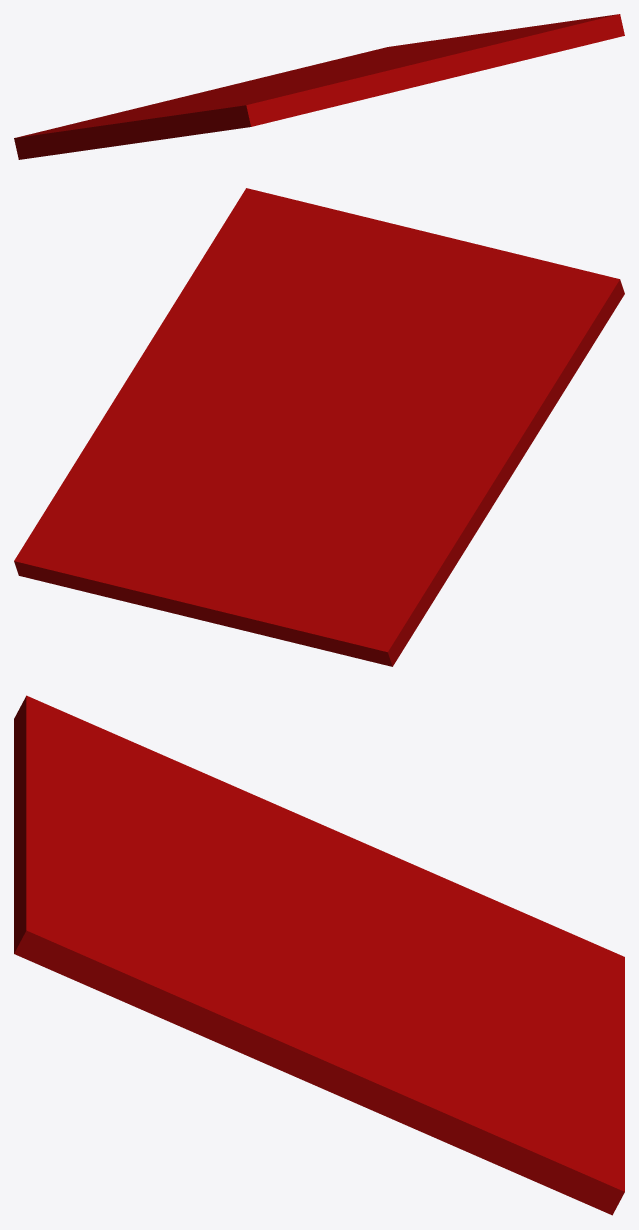
File: SM_Env_Dock_Stairs_01_Collision.glb
The picture shows the model from 3 angles, top to bottom: view 1: azimuth 30°, elevation 25°; view 2: azimuth 150°, elevation 25°; view 3: azimuth 270°, elevation 25°; orthographic projection. The views are drawn at different scales.
Visible parts, largest first — view 1: SM_Env_Dock_Stairs_01_Collision; view 2: SM_Env_Dock_Stairs_01_Collision; view 3: SM_Env_Dock_Stairs_01_Collision.
Part boxes in pixels (x1,y1,x2,y2): SM_Env_Dock_Stairs_01_Collision: (14,14,624,159); SM_Env_Dock_Stairs_01_Collision: (14,188,624,666); SM_Env_Dock_Stairs_01_Collision: (14,695,624,1215).
Size of the model in its own units: 3.63 by 2.05 by 3.98.
